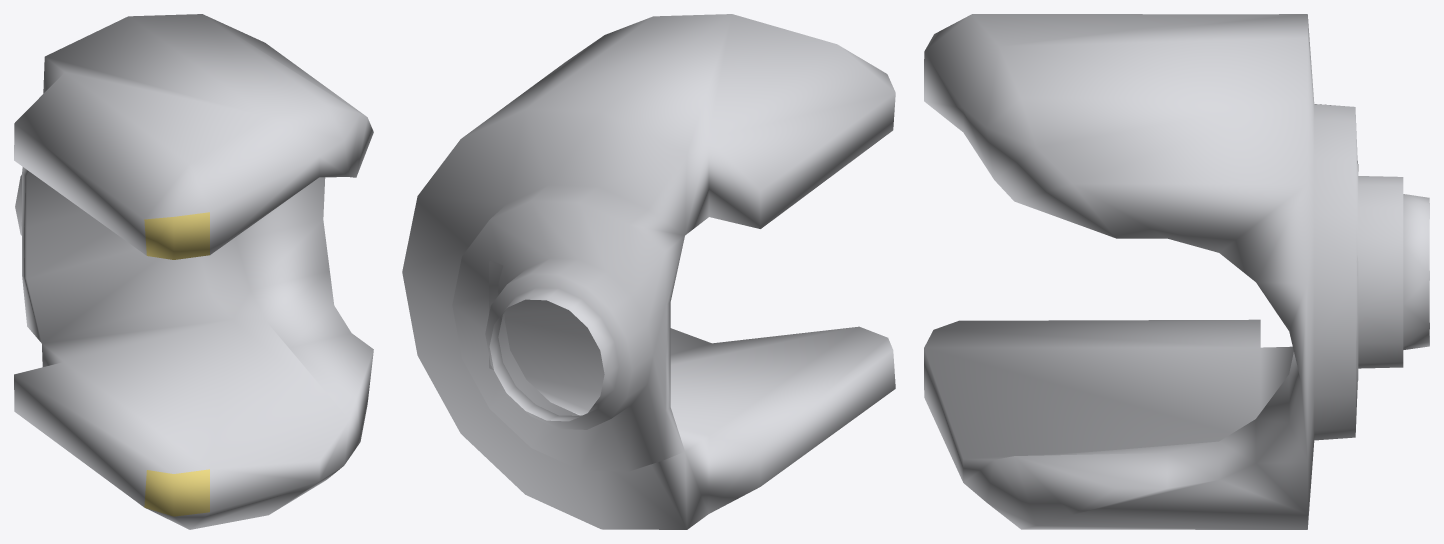
The picture shows the model from 3 angles, left to right: view 1: azimuth 30°, elevation 25°; view 2: azimuth 150°, elevation 25°; view 3: azimuth 270°, elevation 25°; orthographic projection. The views are drawn at different scales.
Parts seen in each view (by area): view 1: f30_f40; view 2: f30_f40; view 3: f30_f40.
Boxes of the visible parts, x1,y1,x2,y2 form: f30_f40: [14, 14, 373, 529]; f30_f40: [402, 14, 895, 529]; f30_f40: [924, 14, 1429, 529].
Size of the model in its own units: 0.0195 by 0.023 by 0.0225.
